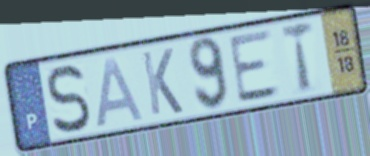9: (187, 33, 232, 115)
A: (94, 54, 147, 130)
E: (226, 26, 284, 107)
K: (139, 46, 186, 119)
S: (45, 62, 93, 137)
T: (279, 18, 317, 97)
